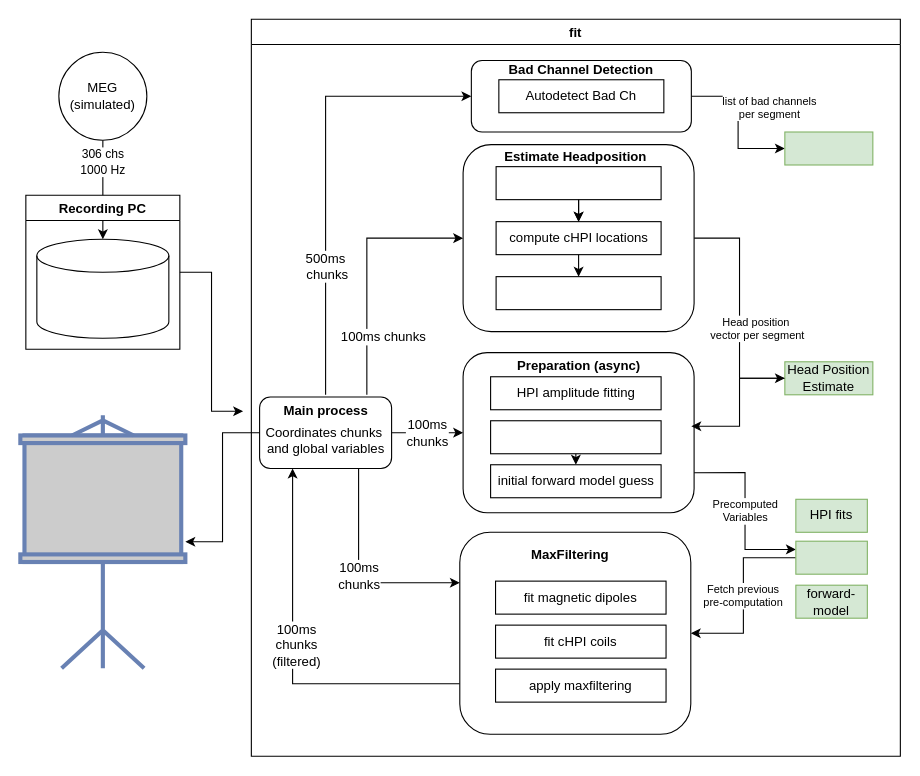
Some shapes in this 920 by 776 pixel diagram are drawn without their labels. Each missing label, with the centre of its shape:
bad chs: (x=828, y=148)
calculate cHPI amplitudes: (x=578, y=183)
compute headpos: (x=578, y=293)
compute whitener: (x=575, y=437)
covar.-whitener: (x=831, y=557)
Datastream via LabStreamingLayer: (x=102, y=288)
Stimulus Presentation Neurofeedback: (x=102, y=541)
